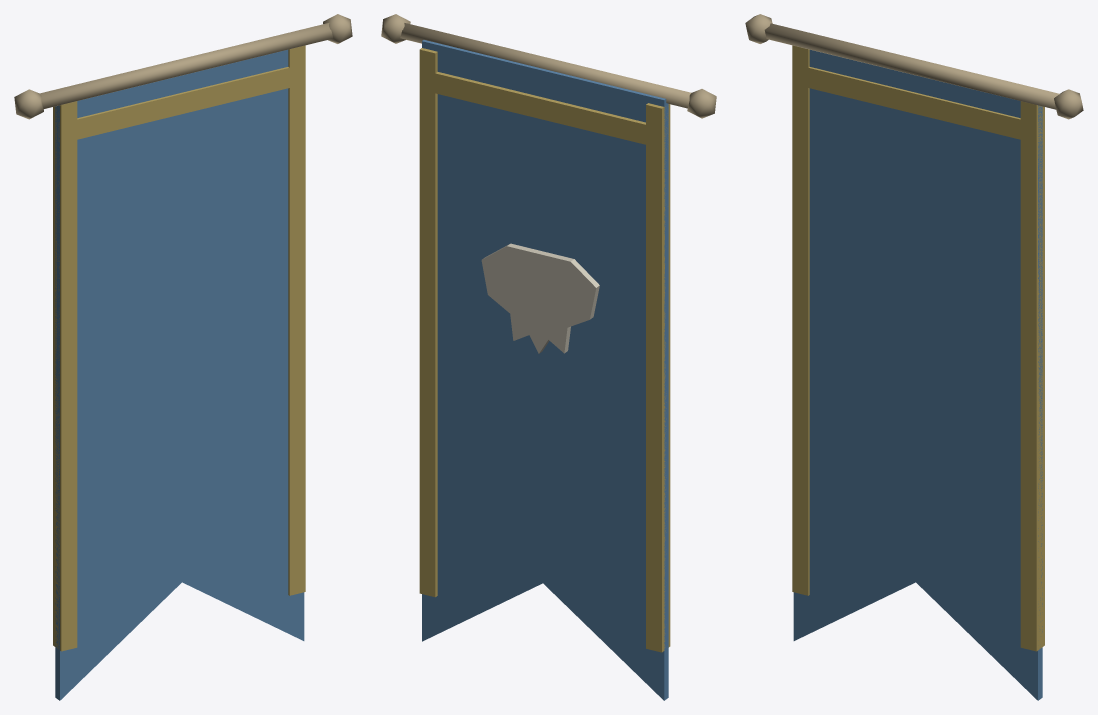
Rendered from dungeon_spirit_banner_v0.glb.
3 views of the same model, side by side, from view 1: azimuth 30°, elevation 25°; view 2: azimuth 150°, elevation 25°; view 3: azimuth 330°, elevation 25° (orthographic).
Parts seen in each view (by area): view 1: dungeon_spirit_banner_v0; view 2: dungeon_spirit_banner_v0; view 3: dungeon_spirit_banner_v0.
Boxes of the visible parts, <box> form: dungeon_spirit_banner_v0: <box>14,14,352,700</box>; dungeon_spirit_banner_v0: <box>381,14,716,700</box>; dungeon_spirit_banner_v0: <box>745,14,1083,700</box>.
Size of the model in its own units: 1.04 by 1.84 by 0.0933.
